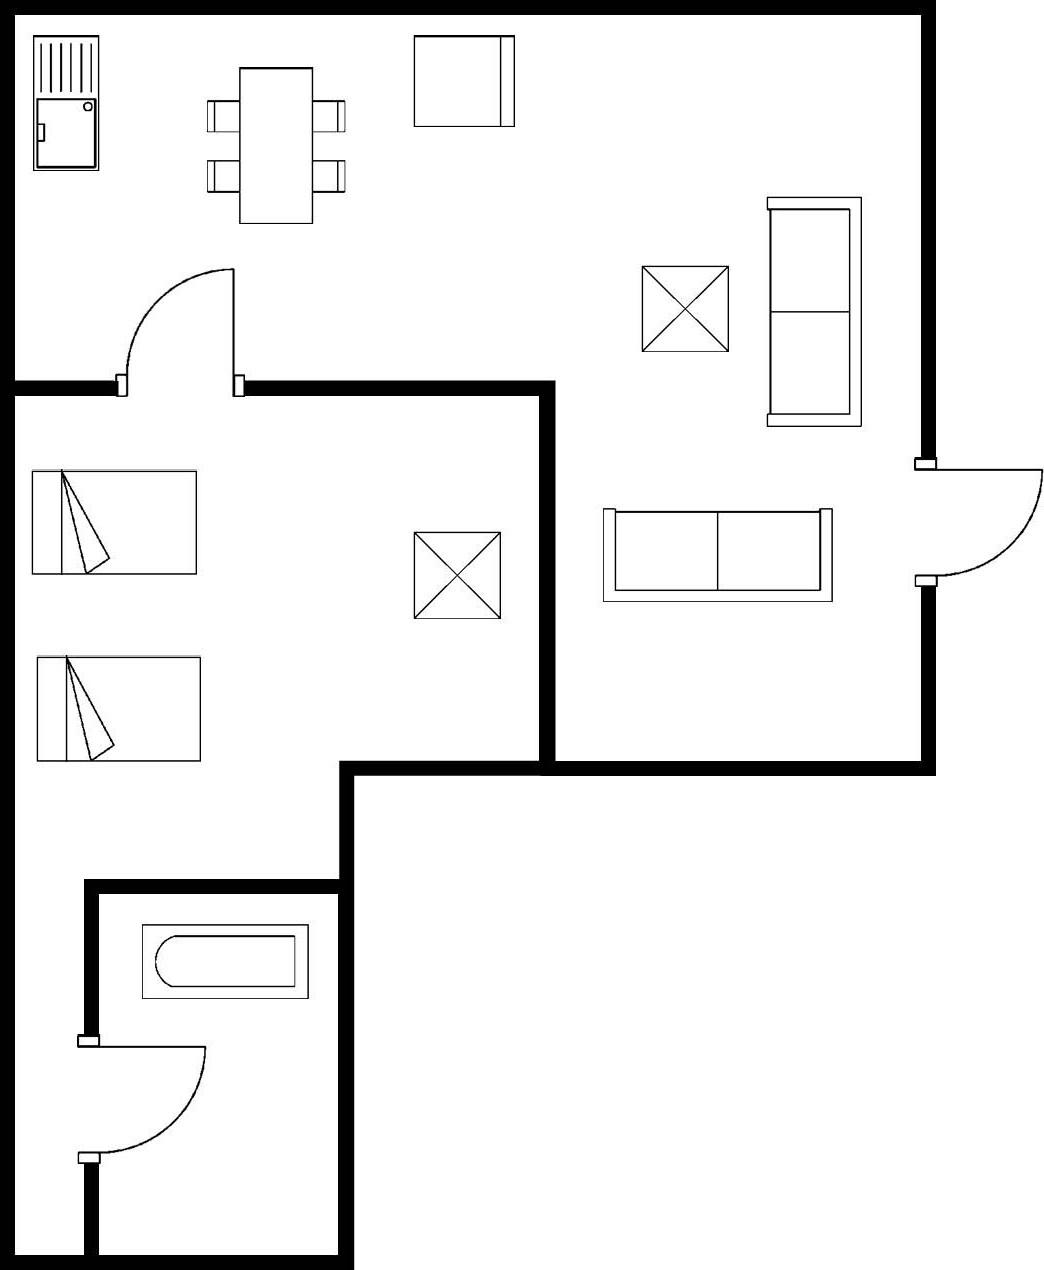bed: (28, 649, 210, 770), (22, 464, 202, 584)
dining_table: (200, 58, 349, 229)
sink: (23, 23, 107, 179)
sofa: (594, 498, 838, 610), (758, 187, 867, 437)
tub: (134, 915, 316, 1011)
